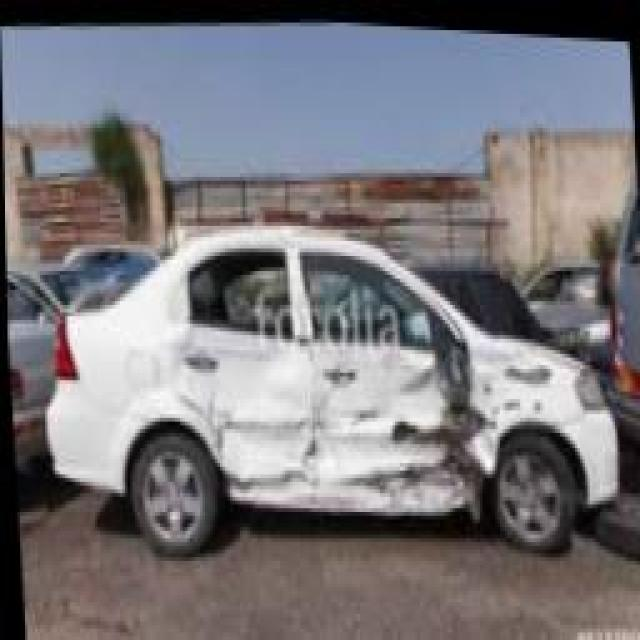Door: (163, 234, 488, 519)
Fender: (72, 256, 195, 415), (464, 324, 579, 430)
